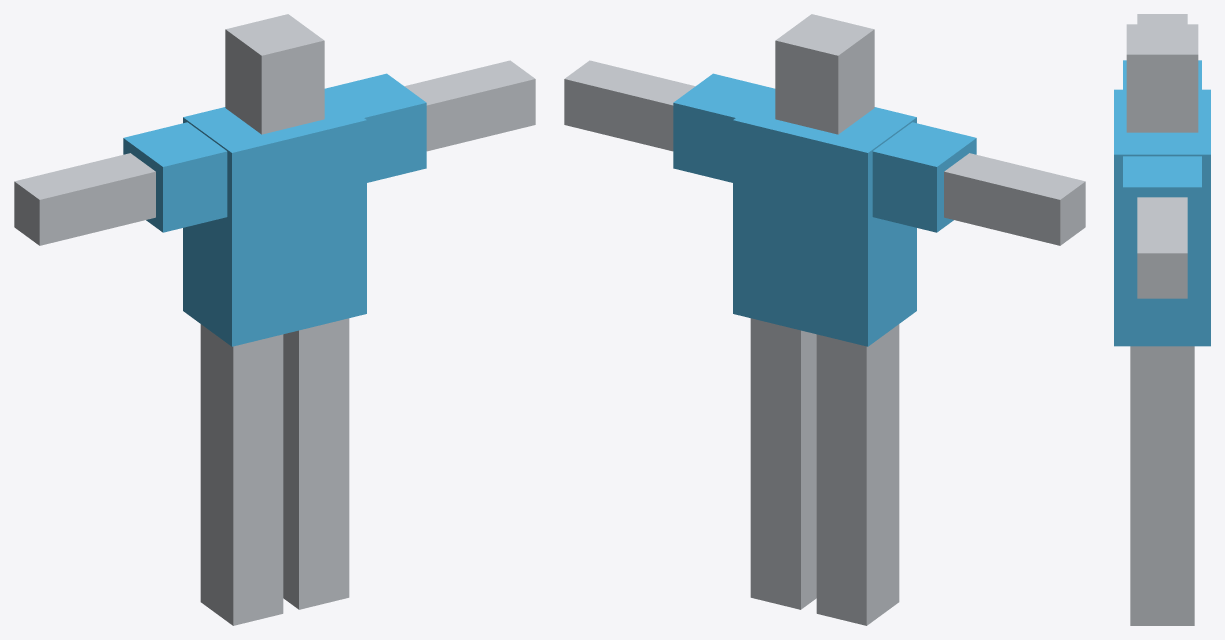
Rendered from mock-tryon.glb.
3 renders of one model, left to right at view 1: azimuth 30°, elevation 25°; view 2: azimuth 150°, elevation 25°; view 3: azimuth 270°, elevation 25°, orthographic.
Visible parts, largest first — view 1: mock shirt torso, mock right leg, mock left leg, mock head, mock right arm, mock left arm, mock right sleeve, mock left sleeve; view 2: mock shirt torso, mock right leg, mock left leg, mock head, mock right arm, mock left arm, mock right sleeve, mock left sleeve; view 3: mock left leg, mock shirt torso, mock head, mock left arm, mock left sleeve, mock right arm, mock right sleeve.
Boxes of the visible parts, <box> form: mock shirt torso: <box>183,89,366,346</box>; mock right leg: <box>200,324,283,625</box>; mock left leg: <box>283,318,349,609</box>; mock head: <box>225,14,324,134</box>; mock right arm: <box>14,153,155,245</box>; mock left arm: <box>404,60,535,151</box>; mock right sleeve: <box>123,122,227,232</box>; mock left sleeve: <box>325,73,426,182</box>; mock shirt torso: <box>733,89,916,346</box>; mock right leg: <box>816,324,899,625</box>; mock left leg: <box>750,318,816,609</box>; mock head: <box>775,14,874,134</box>; mock right arm: <box>944,153,1085,245</box>; mock left arm: <box>564,60,695,151</box>; mock right sleeve: <box>872,122,976,232</box>; mock left sleeve: <box>673,73,774,182</box>; mock left leg: <box>1130,346,1194,625</box>; mock shirt torso: <box>1114,89,1210,346</box>; mock head: <box>1126,24,1198,132</box>; mock left arm: <box>1137,197,1187,298</box>; mock left sleeve: <box>1123,156,1201,252</box>; mock right arm: <box>1137,14,1187,24</box>; mock right sleeve: <box>1123,60,1201,89</box>.
Size of the model in its own units: 1.58 by 1.72 by 0.27.
